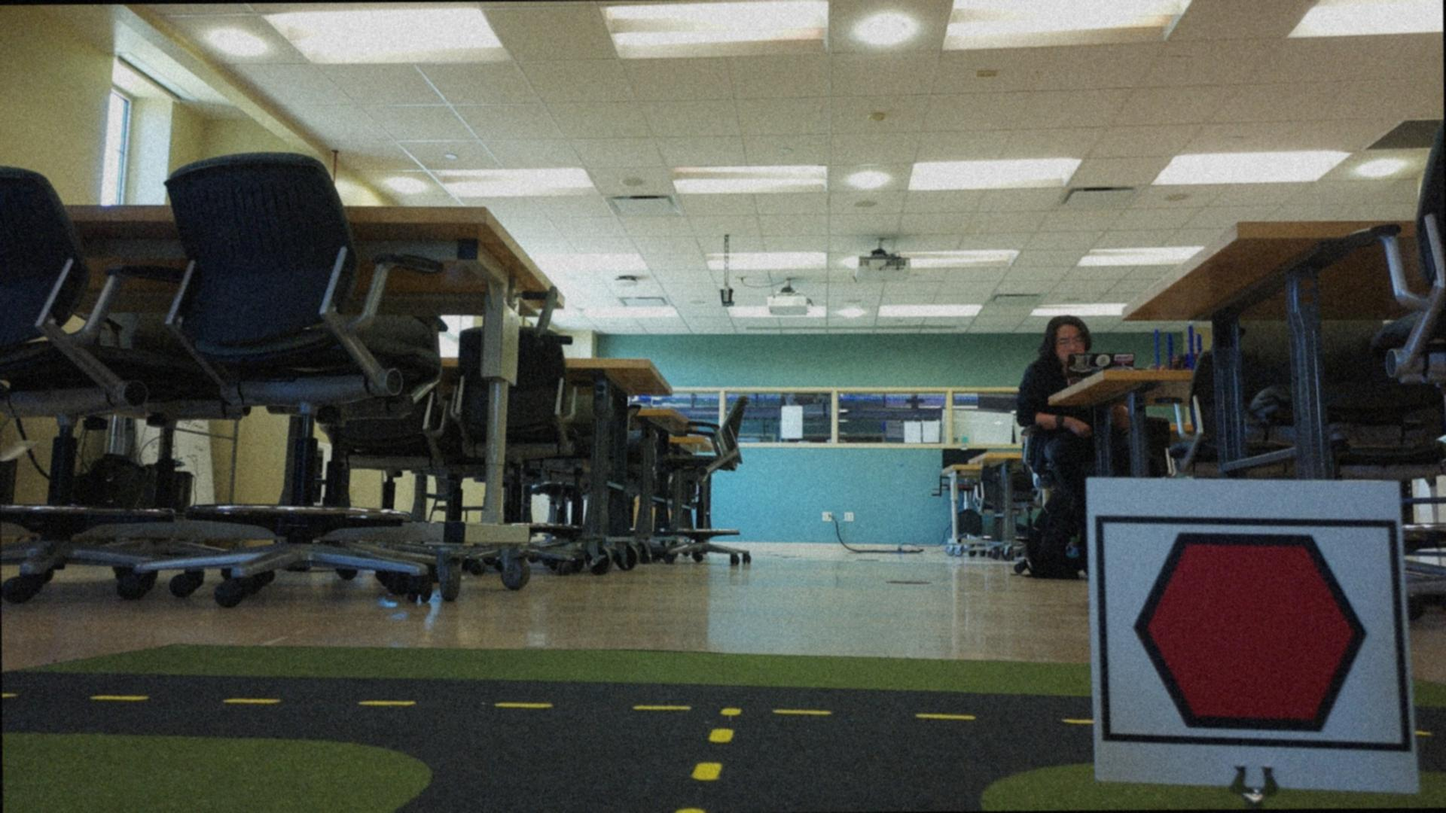stop: (1112, 522, 1388, 742)
yellowline: (694, 705, 738, 788)
